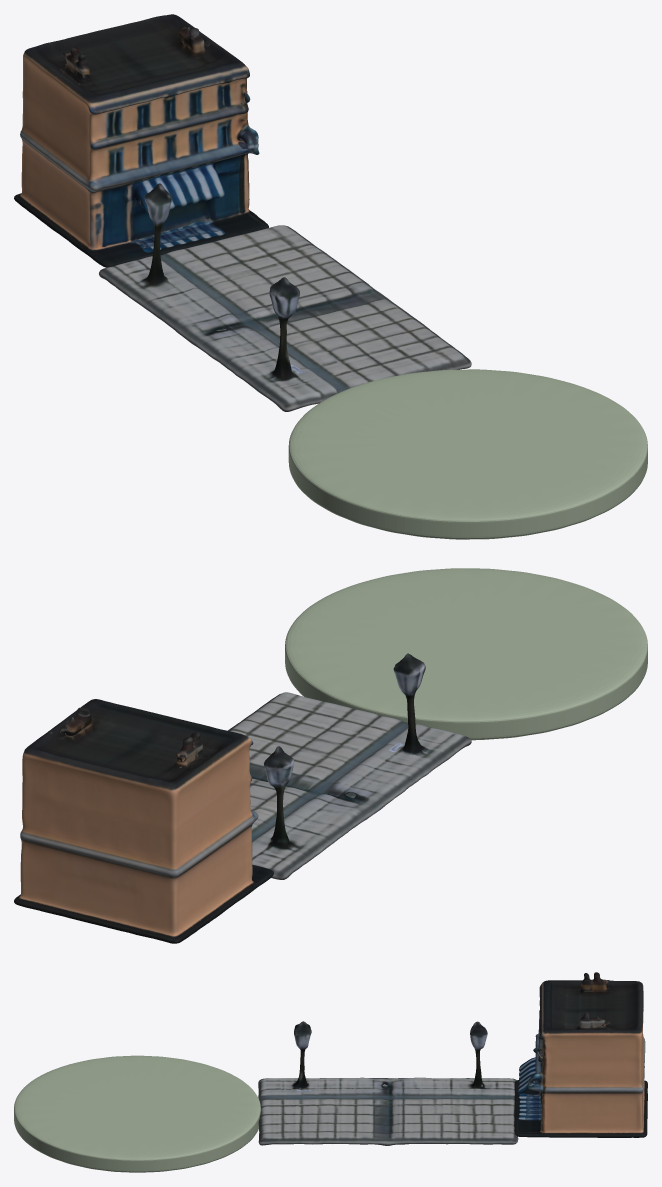
3 views of the same model, one above another, from view 1: azimuth 30°, elevation 25°; view 2: azimuth 150°, elevation 25°; view 3: azimuth 270°, elevation 25° (orthographic). The views are drawn at different scales.
Visible parts, largest first — view 1: footing_02, bakery, mesh; view 2: footing_02, bakery, mesh; view 3: footing_02, bakery, mesh.
Part boxes in pixels (x1=…): footing_02: x1=288, y1=369, x2=647, y2=539; bakery: x1=14, y1=14, x2=268, y2=267; mesh: x1=99, y1=183, x2=471, y2=411; footing_02: x1=285, y1=568, x2=647, y2=740; bakery: x1=14, y1=699, x2=273, y2=943; mesh: x1=228, y1=653, x2=471, y2=879; footing_02: x1=14, y1=1055, x2=260, y2=1172; bakery: x1=514, y1=972, x2=647, y2=1137; mesh: x1=258, y1=1021, x2=518, y2=1145.
Size of the model in its own units: 9.78 by 5.75 by 25.12.
Materials: 3 (2 with a texture image).
